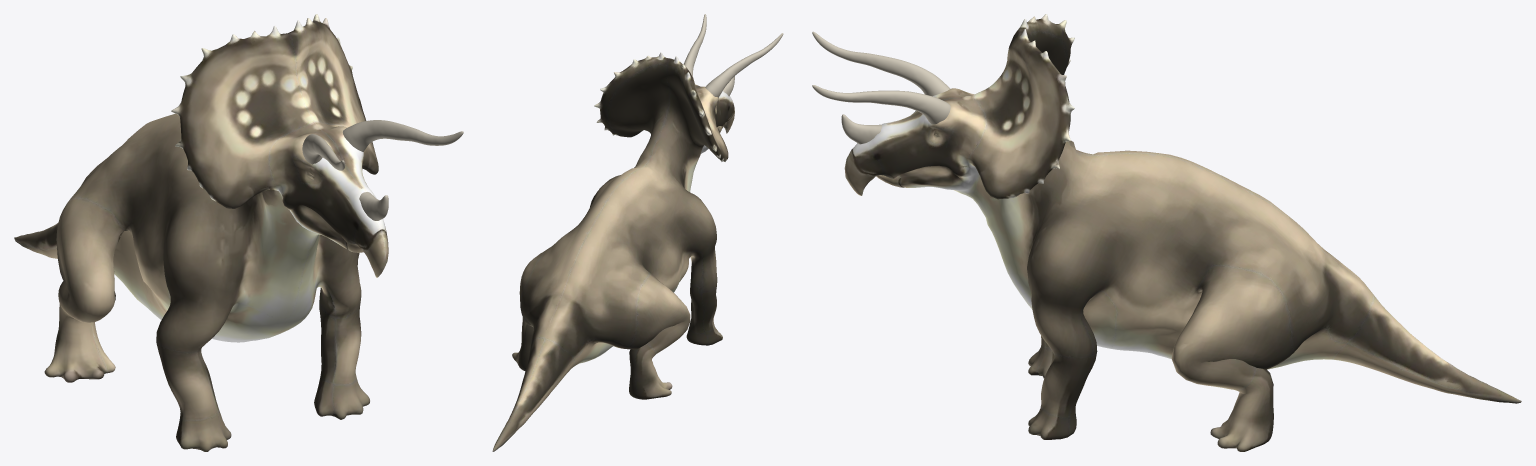
Rendered from triceratops.glb.
3 views of the same model, side by side, from view 1: azimuth 30°, elevation 25°; view 2: azimuth 150°, elevation 25°; view 3: azimuth 270°, elevation 25° (orthographic). The views are drawn at different scales.
Visible parts, largest first — view 1: Object_58, Object_60, Object_11; view 2: Object_58, Object_60; view 3: Object_58, Object_60.
Boxes of the visible parts, <box> form: Object_58: <box>14,14,388,451</box>; Object_60: <box>302,120,463,170</box>; Object_11: <box>359,192,388,220</box>; Object_58: <box>492,52,734,451</box>; Object_60: <box>683,14,783,97</box>; Object_58: <box>844,14,1521,451</box>; Object_60: <box>812,31,950,124</box>.
Bounding box in the file's own units: 18.86 × 30.68 × 51.93.
Materials: 2 (1 with a texture image).
